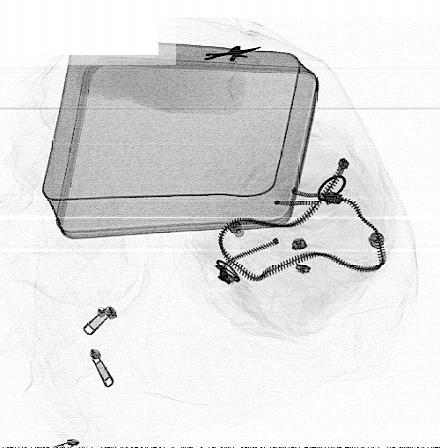Scissors: (202, 44, 263, 64)
